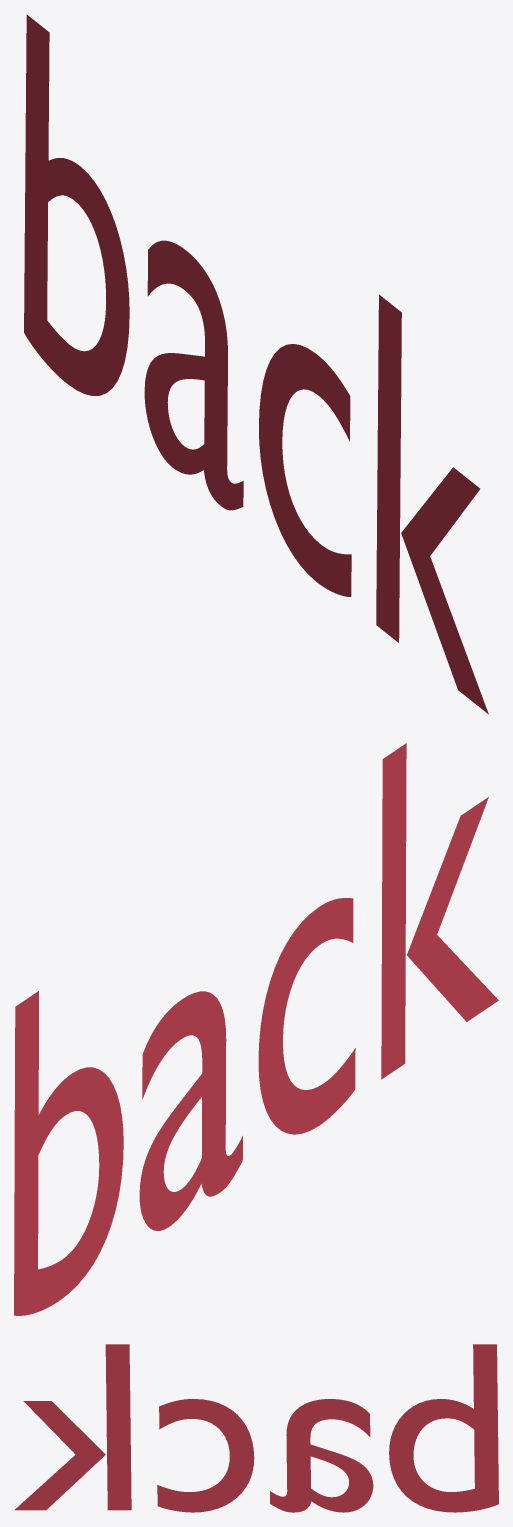
Rendered from backback.glb.
3 renders of one model, top to bottom at view 1: azimuth 30°, elevation 25°; view 2: azimuth 150°, elevation 25°; view 3: azimuth 270°, elevation 25°, orthographic. The views are drawn at different scales.
Visible parts, largest first — view 1: Text.002; view 2: Text.002; view 3: Text.002.
Part boxes in pixels (bbox=[...]): Text.002: bbox=[24, 14, 488, 714]; Text.002: bbox=[14, 743, 498, 1315]; Text.002: bbox=[14, 1344, 498, 1512].
Size of the model in its own units: 0.0141 by 0.2241 by 0.5748.
